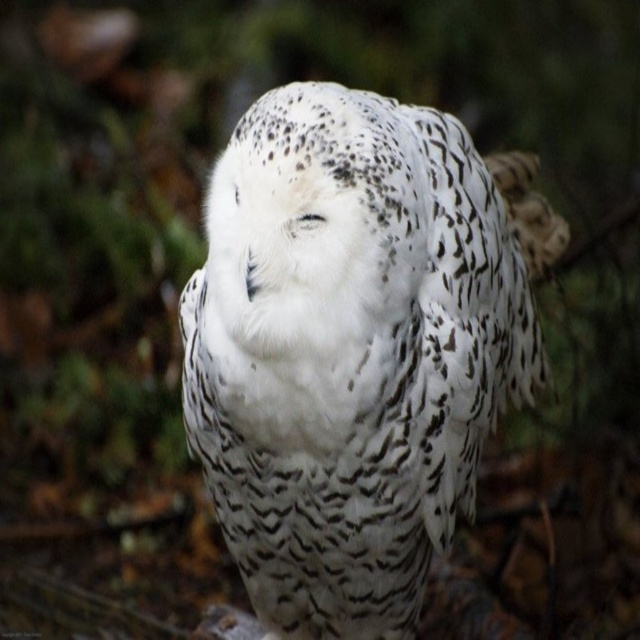Owl: (173, 77, 576, 639)
